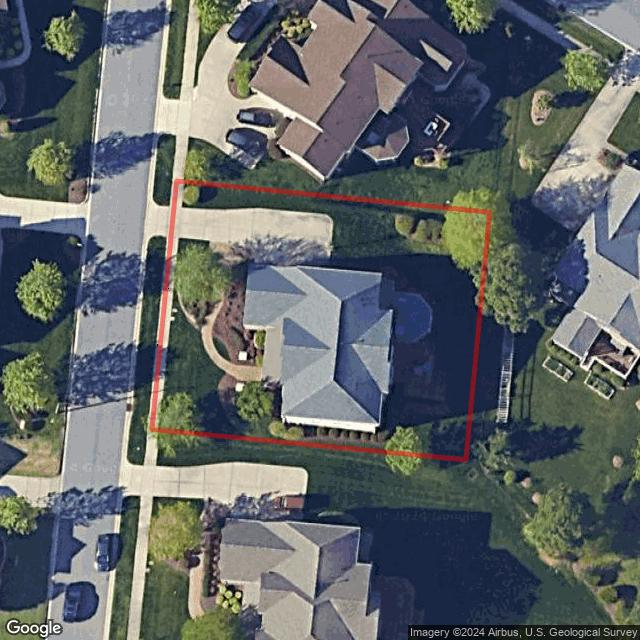Driveway: (169, 206, 334, 268)
Extra-Driveway: (150, 199, 174, 239)
Extra-Lawn: (130, 237, 166, 431), (153, 177, 173, 206)
Extra-Sidewalk: (147, 237, 170, 431), (170, 180, 177, 206)
House: (244, 266, 394, 432)
Lawn: (150, 181, 490, 460)
Other: (220, 372, 396, 446), (212, 244, 265, 367), (380, 278, 433, 344), (179, 250, 212, 326), (396, 214, 455, 243)
Sidewalk: (199, 244, 263, 383), (152, 237, 180, 431), (173, 181, 184, 207)
